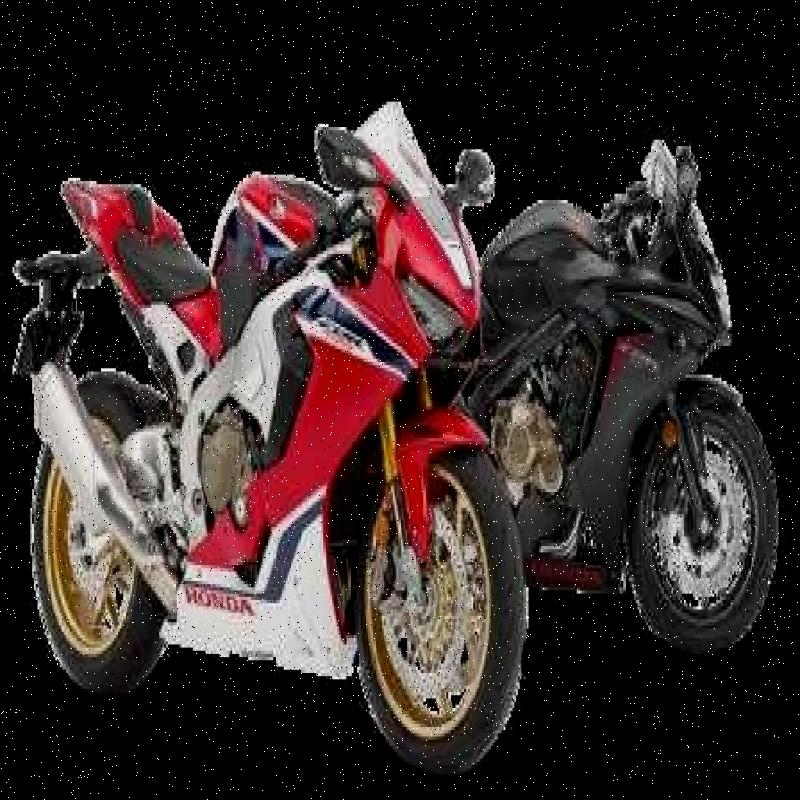bike: (23, 76, 530, 767), (471, 136, 781, 677)
